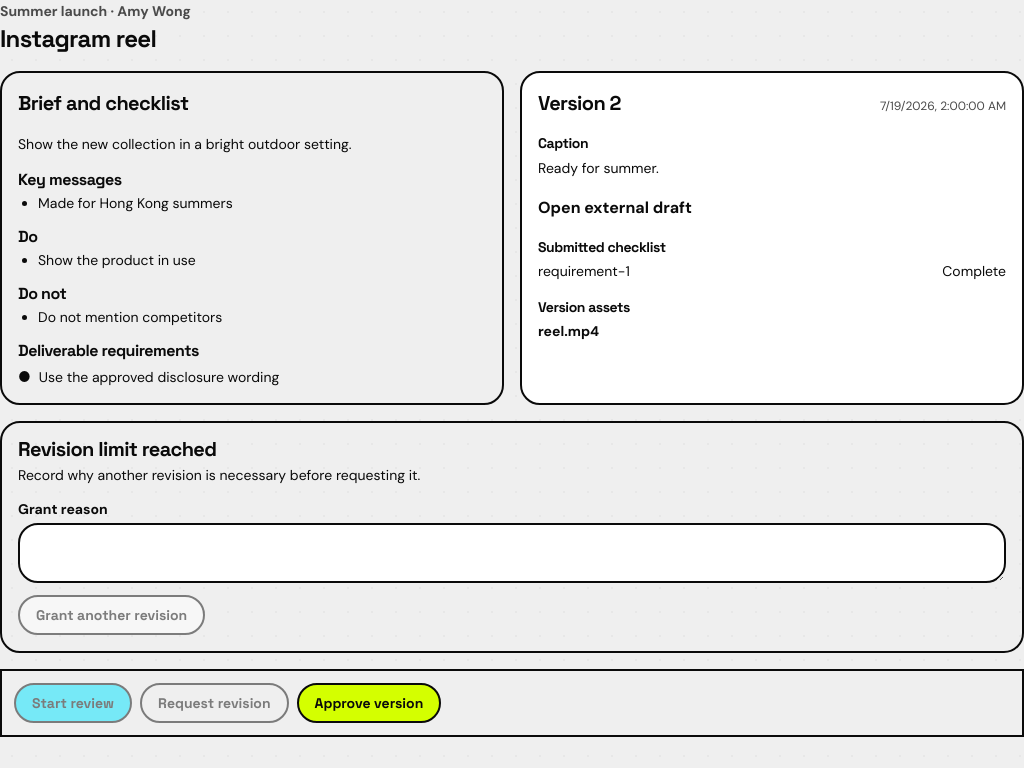
Test: ActiveMissionReview › requires a grant reason before another revision request when the limit is exhausted
Expected: the button "Request revision" is disabled, left=140, top=684, right=288, bottom=724
Expected: the heading "Revision limit reached" is shown, left=18, top=436, right=216, bottom=462
Step 1. Type "The mission brief changed" into the text box labelled "Grant reason" → [512, 554], box left=18, top=524, right=1006, bottom=584
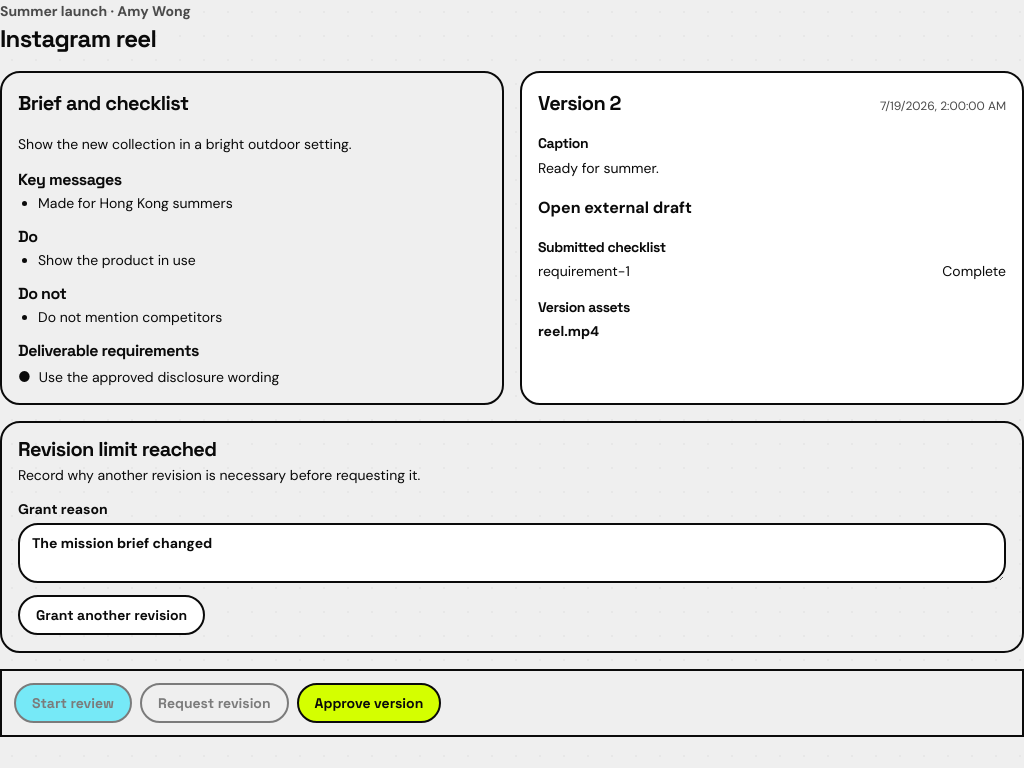
Step 2. Click the button "Grant another revision" → [112, 616], box left=18, top=596, right=205, bottom=636
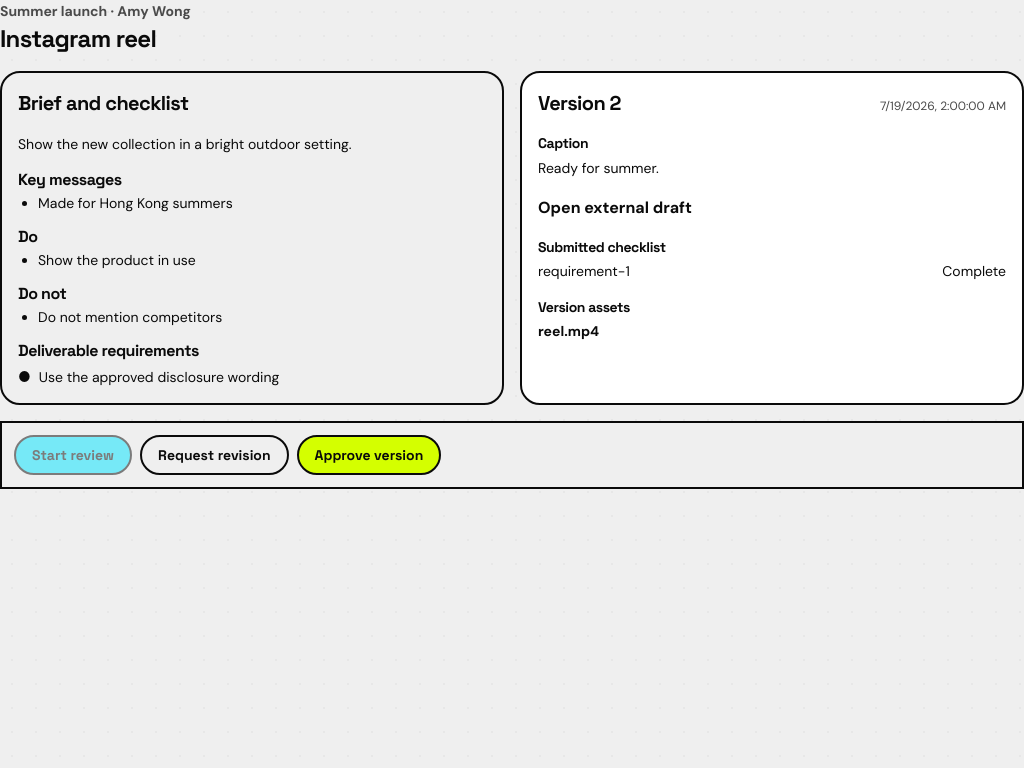
Expected: the button "Request revision" is enabled
Step 3. Click the button "Request revision" → [214, 455], box left=140, top=435, right=288, bottom=475
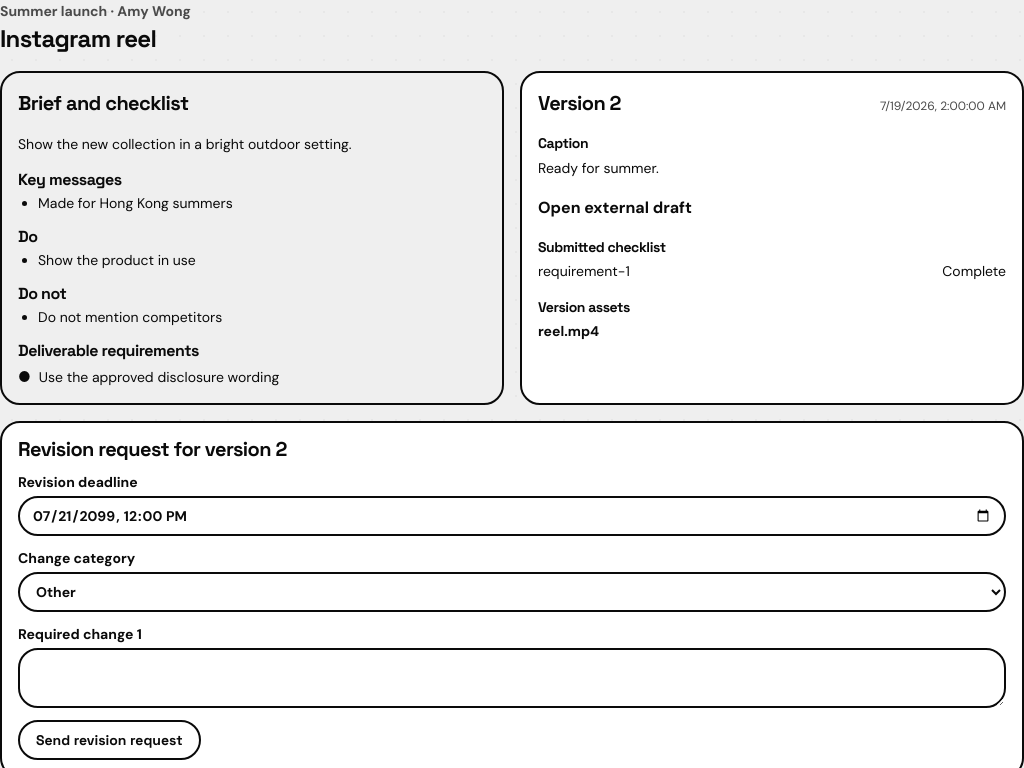
Step 4. Type "Update the opening shot" into the text box labelled "Required change 1" → [512, 678], box left=18, top=648, right=1006, bottom=708
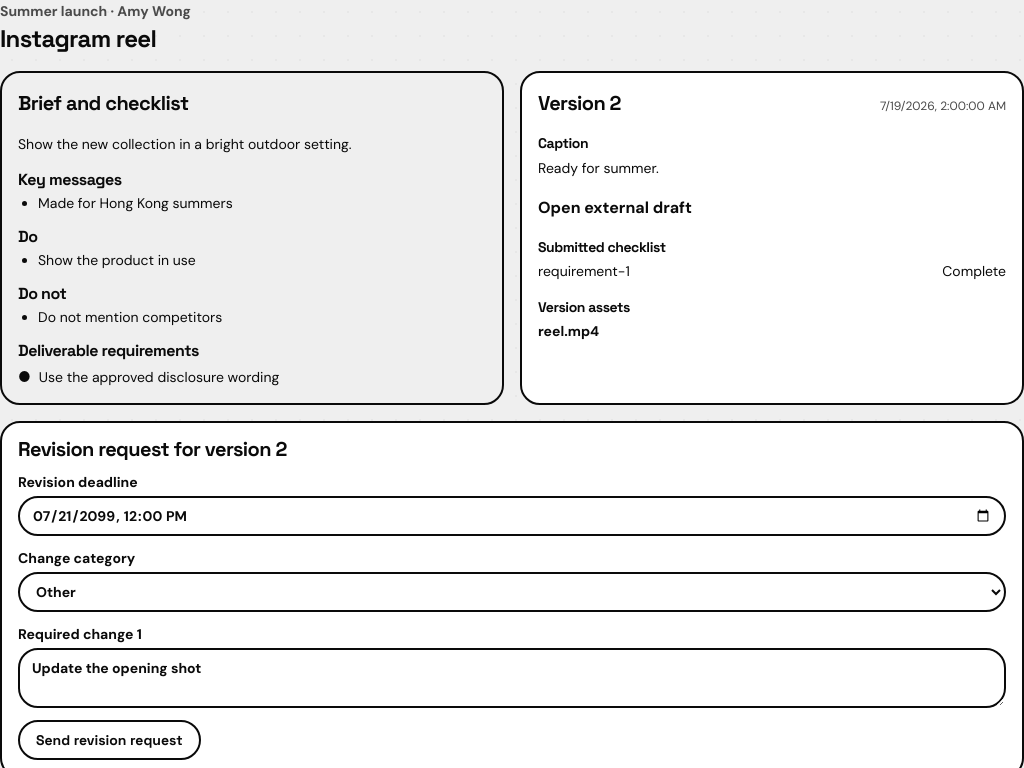
Step 5. Replace the text in the field labelled "Revision deadline" with "2099-07-21T10:00" → [512, 516], box left=18, top=496, right=1006, bottom=536
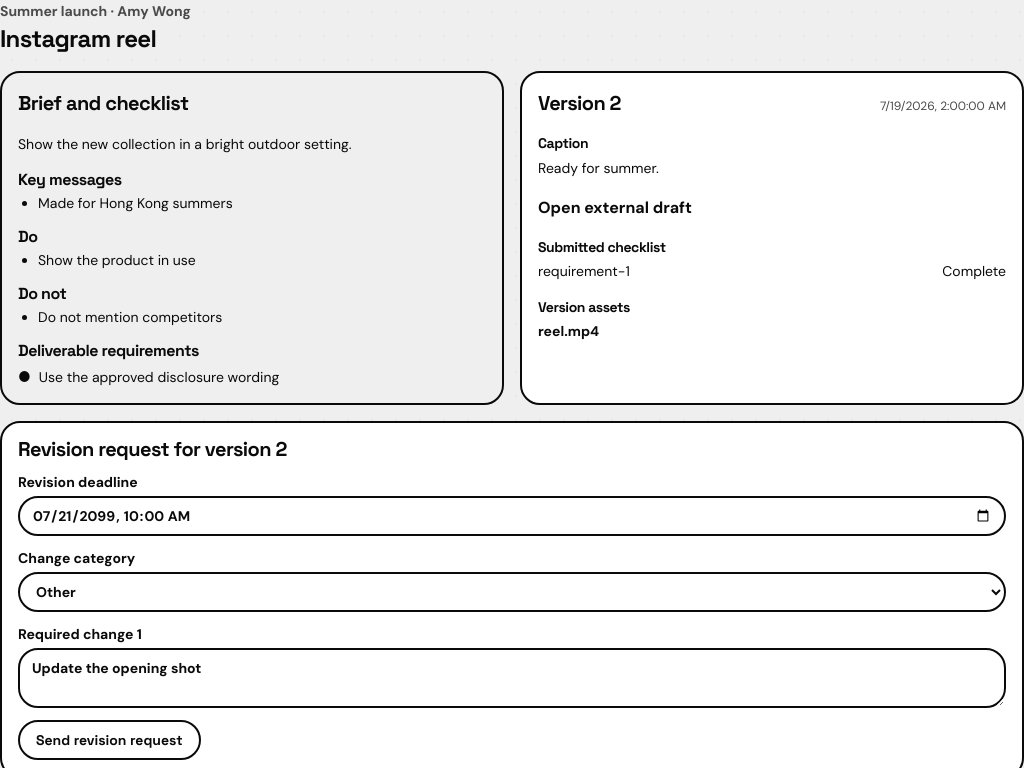
Step 6. Click the button "Send revision request" → [109, 740], box left=18, top=720, right=201, bottom=760
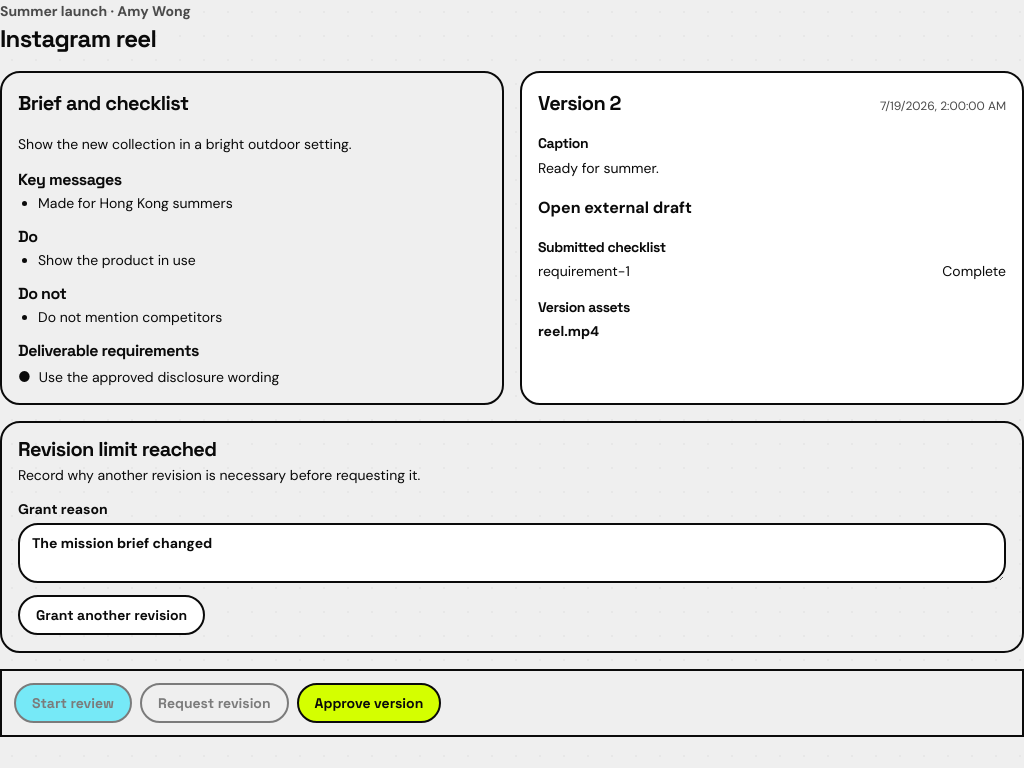
Expected: the button "Request revision" is disabled, left=140, top=684, right=288, bottom=724
